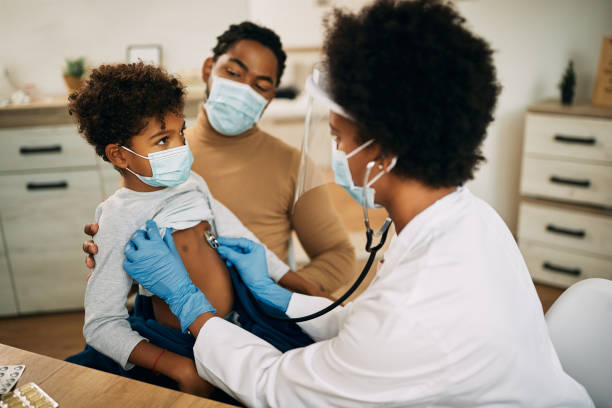with mask: (327, 74, 397, 210), (206, 34, 285, 135), (128, 108, 198, 193)
